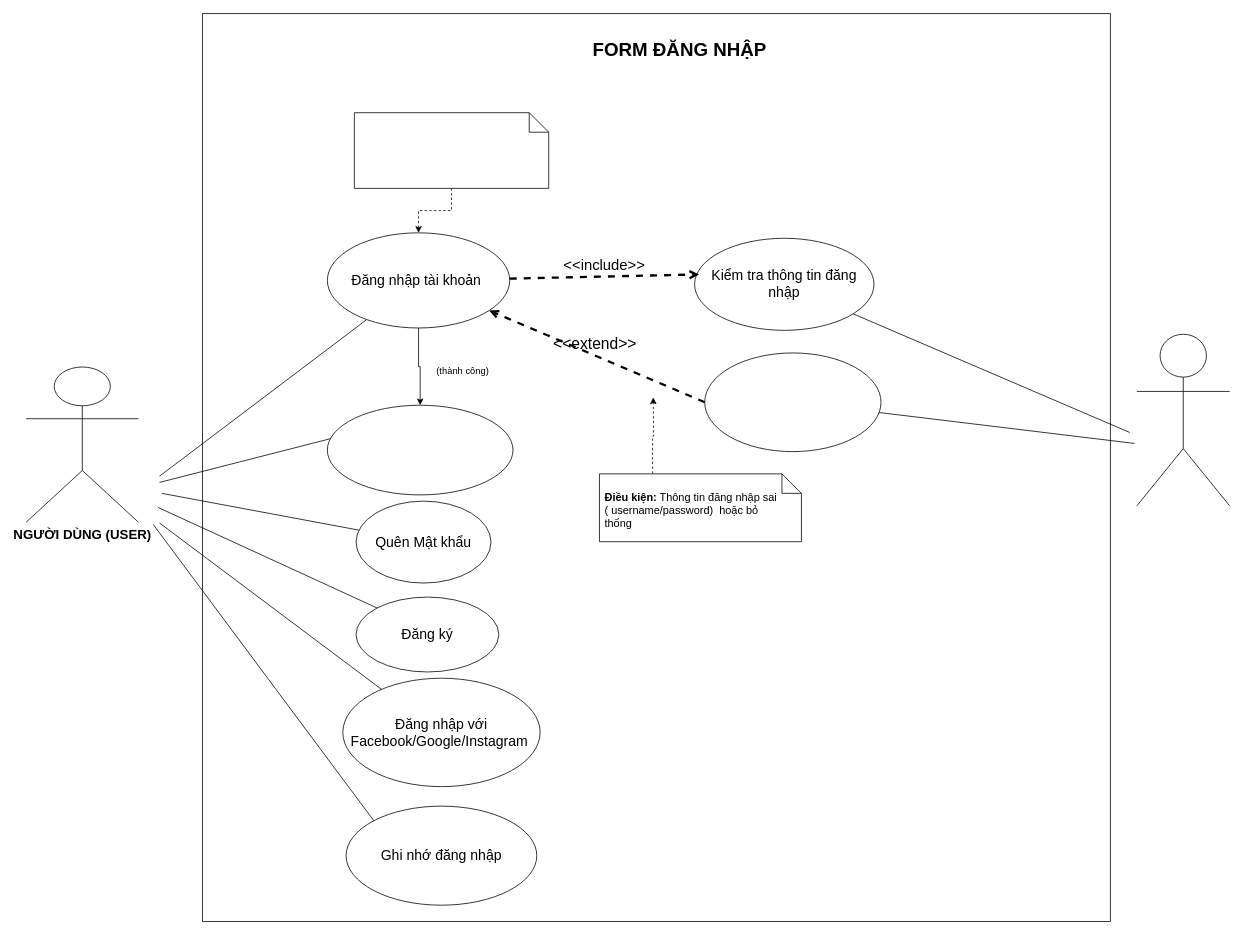
Some shapes in this 1247 by 935 pixel diagram are drawn without their labels. Here are the shapes that lost their labels. From the top down, the box of each, then its label:
(354, 112, 549, 188): Nhập Tên tài khoản và mật khẩu, click nút đăng nhập
(704, 352, 881, 452): Hiển thị thông báo lỗi
(1136, 333, 1230, 506): <<HỆ THỐNG>>
(327, 404, 513, 495): Xem Dashboard
